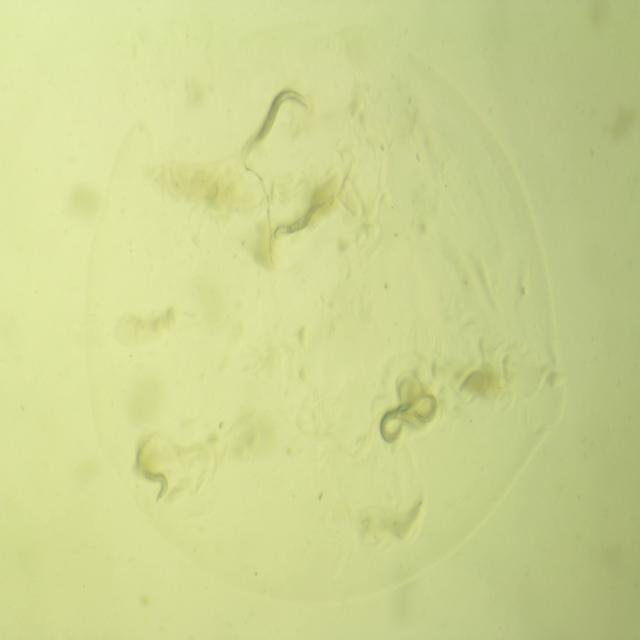worm: (243, 85, 314, 156), (267, 188, 333, 242), (133, 439, 174, 508), (374, 405, 433, 449), (388, 388, 444, 424)
